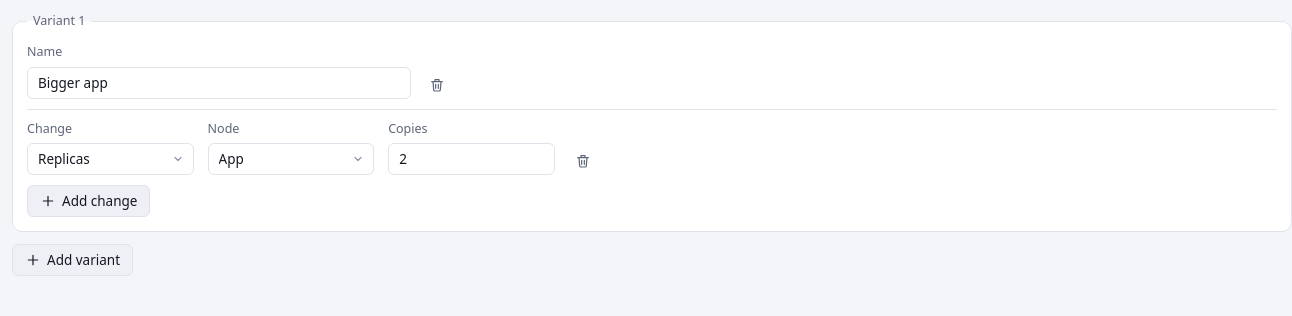
Test: VariantEditor › requires a name and removes variants and changes
Later steps or results of the test are not shown.
Clear the field labelled "Name" at [219, 82], box [27, 66, 411, 98]
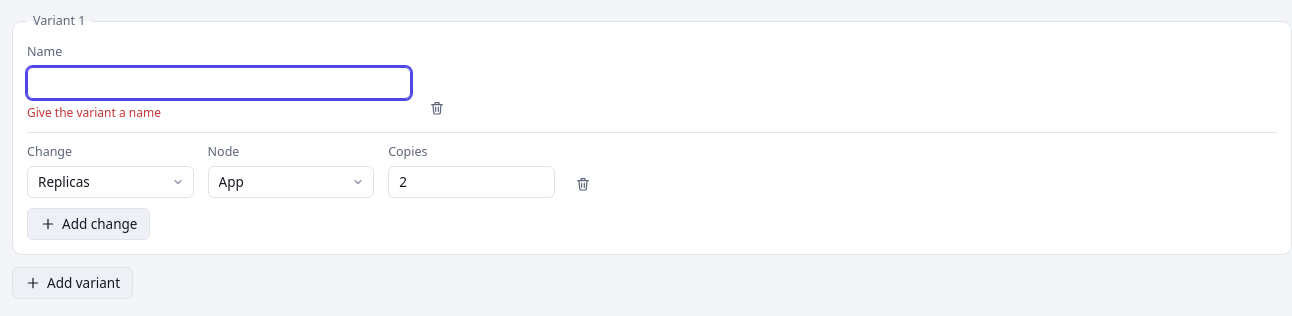
Expected: the text "Give the variant a name" is shown, [27, 104, 161, 120]
